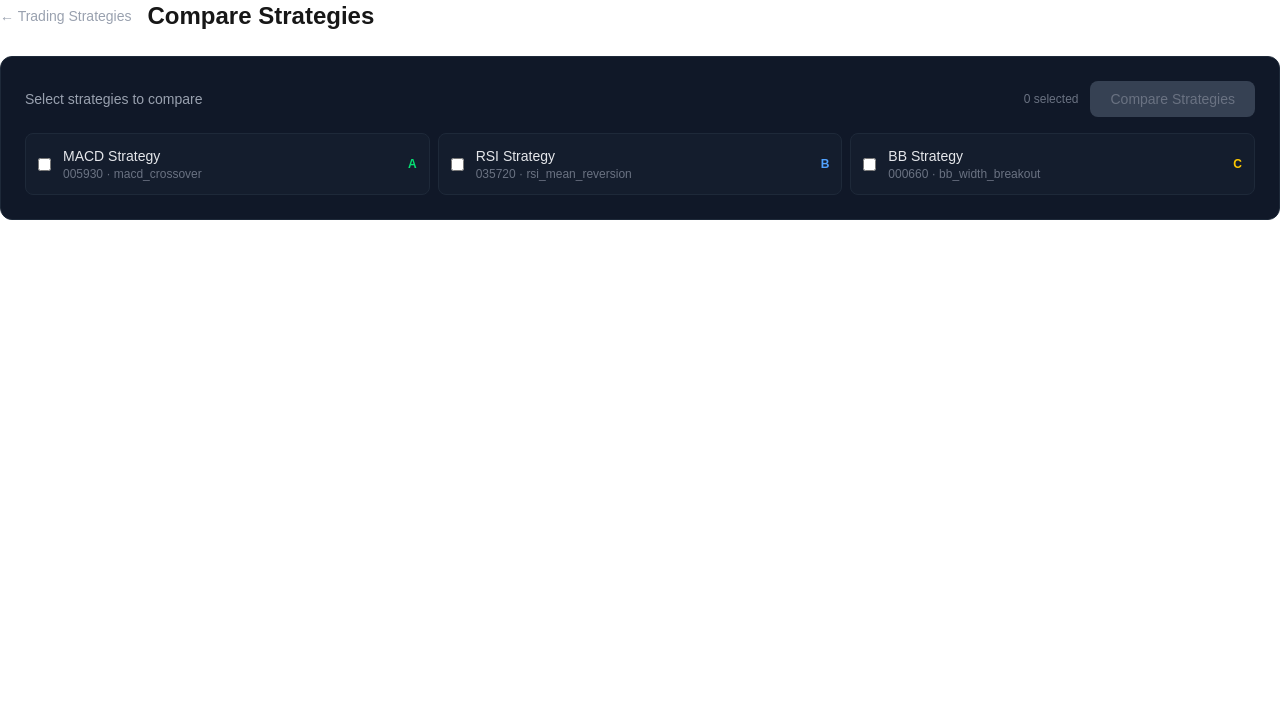
Test: StrategyComparePage › displays ranking cards after comparison
Expected: the text "MACD Strategy" is shown, [63, 148, 160, 164]
Click the checkbox labelled "MACD Strategy 005930 · macd_crossover A". click: point(44, 164)
box: [38, 158, 51, 170]
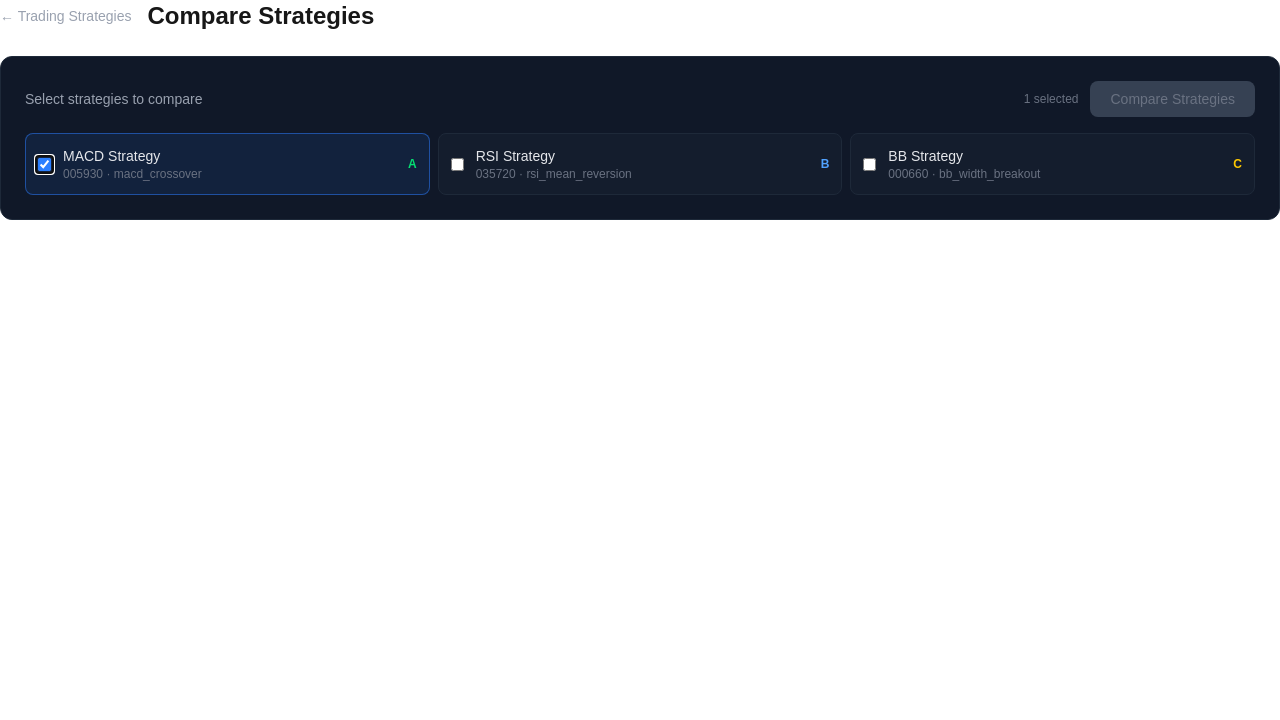
Click the checkbox labelled "RSI Strategy 035720 · rsi_mean_reversion B". click: point(457, 164)
box: [451, 158, 464, 170]
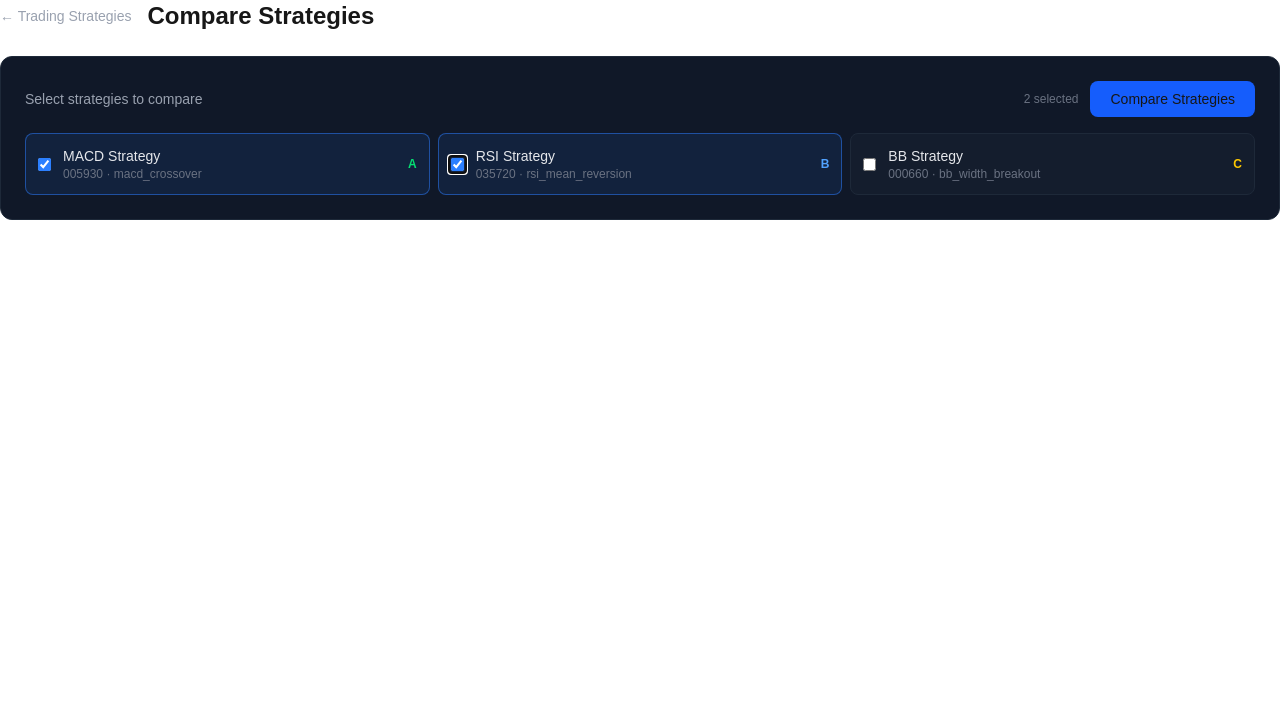
Click the button "Compare Strategies". click: point(1173, 99)
box: [1090, 81, 1255, 117]
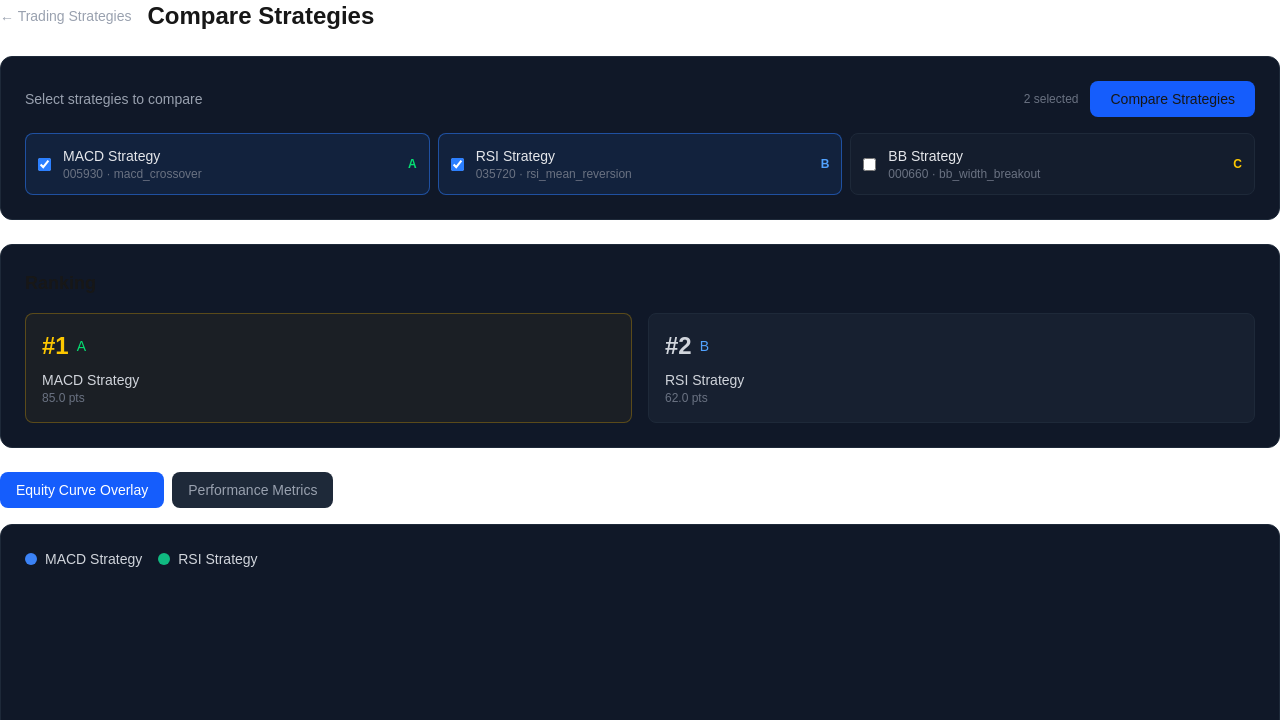
Expected: the text "#1" is shown, [42, 330, 69, 362]
Expected: the text "#2" is shown, [665, 330, 692, 362]
Expected: the text "85.0 pts" is shown, [42, 391, 85, 405]
